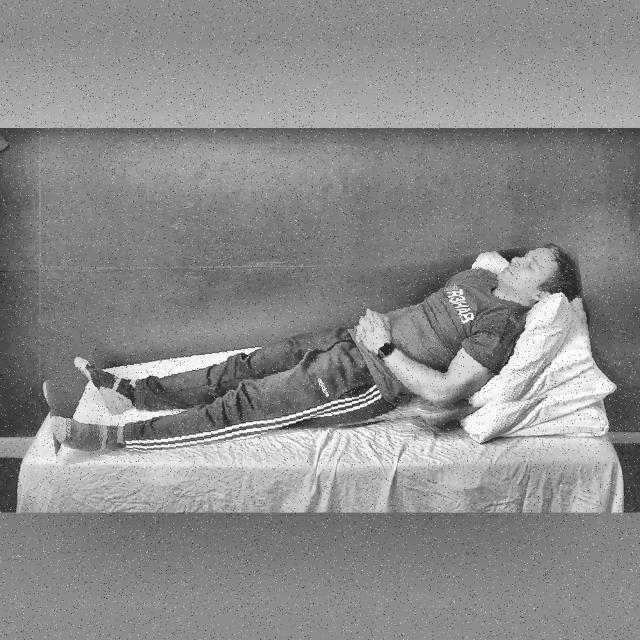Supine: (50, 244, 582, 454)
